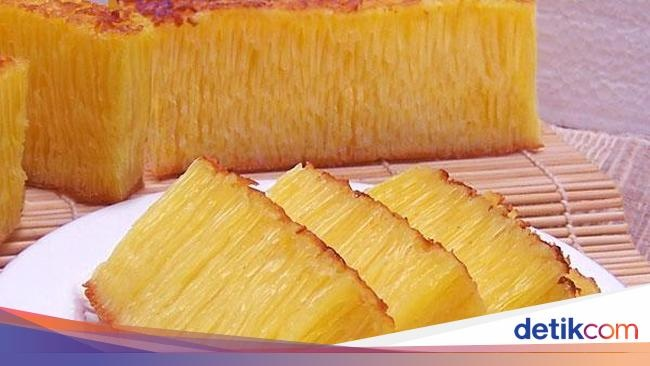bika_ambon: (161, 2, 550, 171), (89, 172, 337, 361)
